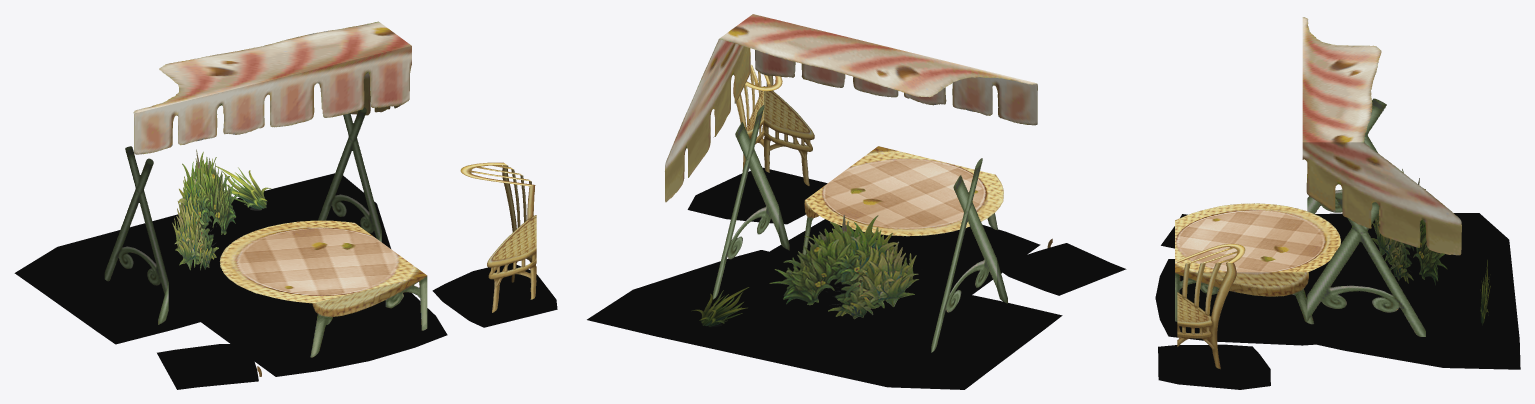
Rendered from K1_oldtable2.FBX.
3 renders of one model, left to right at view 1: azimuth 30°, elevation 25°; view 2: azimuth 150°, elevation 25°; view 3: azimuth 270°, elevation 25°, orthographic. The views are drawn at different scales.
Visible parts, largest first — view 1: k1_old013, k1_old0009, k1_old014, k1_old0006, k1_zacao_2610, k1_old0008, k1_old010, k1_old0007, k1_old012, k1_old015, k1_zacao_2638; view 2: k1_old0009, k1_old013, k1_old014, k1_zacao_2610, k1_old0006, k1_old0008, k1_old010, k1_old0007, k1_old012, k1_old015, k1_zacao_2638; view 3: k1_old0009, k1_old013, k1_old014, k1_old0006, k1_old0008, k1_old015, k1_old010, k1_zacao_2610, k1_old012, k1_zacao_2638.
Part boxes in pixels (box(x1,y1,x2,y2)): k1_old013: box(133, 21, 411, 154); k1_old0009: box(14, 173, 390, 344); k1_old014: box(219, 220, 427, 376); k1_old0006: box(201, 292, 447, 376); k1_zacao_2610: box(172, 149, 239, 270); k1_old0008: box(432, 263, 557, 327); k1_old010: box(460, 162, 536, 312); k1_old0007: box(157, 344, 258, 389); k1_old012: box(104, 146, 168, 324); k1_old015: box(318, 107, 381, 241); k1_zacao_2638: box(216, 166, 271, 210); k1_old0009: box(587, 250, 1062, 389); k1_old013: box(665, 14, 1037, 202); k1_old014: box(802, 146, 1052, 254); k1_zacao_2610: box(769, 214, 918, 319); k1_old0006: box(770, 219, 1040, 294); k1_old0008: box(687, 167, 827, 224); k1_old010: box(733, 64, 814, 185); k1_old0007: box(999, 243, 1126, 295); k1_old012: box(931, 158, 1007, 352); k1_old015: box(713, 105, 789, 299); k1_zacao_2638: box(691, 287, 749, 327); k1_old0009: box(1305, 213, 1520, 369); k1_old013: box(1302, 17, 1461, 255); k1_old014: box(1175, 203, 1340, 324); k1_old0006: box(1155, 259, 1315, 345); k1_old0008: box(1158, 344, 1270, 389); k1_old015: box(1307, 189, 1425, 336); k1_old010: box(1177, 244, 1245, 369); k1_zacao_2610: box(1371, 169, 1447, 285); k1_old012: box(1307, 98, 1386, 213); k1_zacao_2638: box(1480, 259, 1490, 325).
Size of the model in its own units: 377 by 216 by 329.
